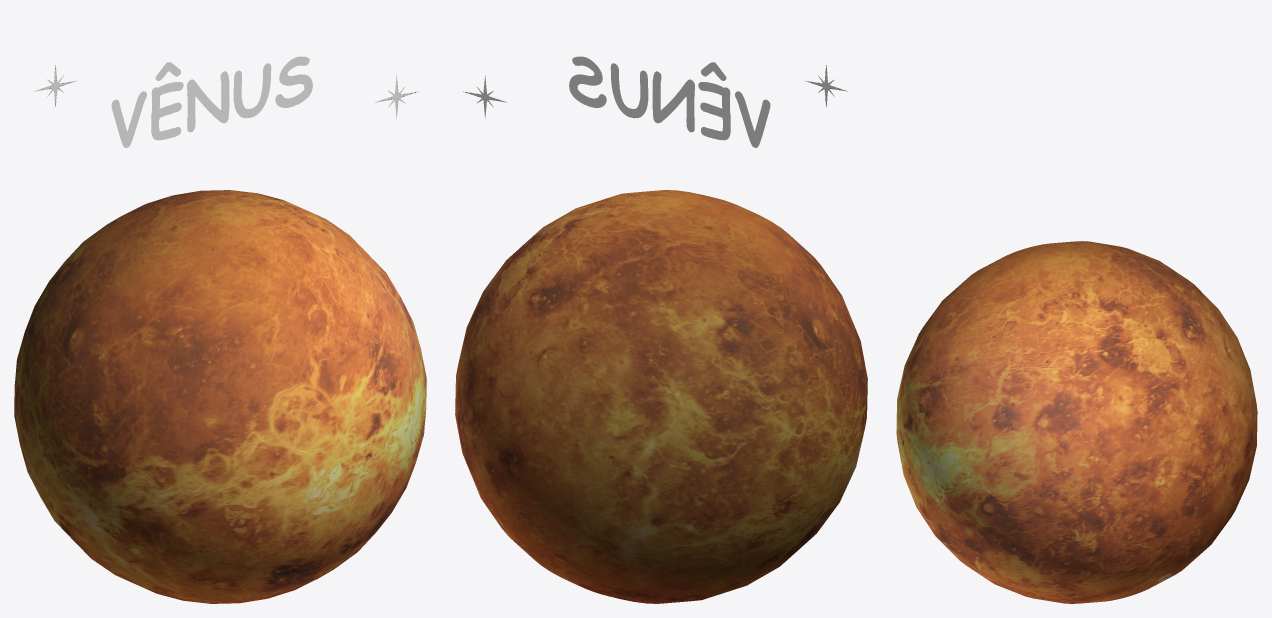
The model's file is venus.glb.
The picture shows the model from 3 angles, left to right: view 1: azimuth 30°, elevation 25°; view 2: azimuth 150°, elevation 25°; view 3: azimuth 270°, elevation 25°; orthographic projection. The views are drawn at different scales.
Parts seen in each view (by area): view 1: rotacao, Letra; view 2: rotacao, Letra; view 3: rotacao.
Part boxes in pixels (<box>): rotacao: <box>14,190,426,603</box>; Letra: <box>111,56,312,147</box>; rotacao: <box>455,190,867,603</box>; Letra: <box>569,56,770,147</box>; rotacao: <box>896,241,1257,603</box>.
Size of the model in its own units: 1.4 by 1.95 by 1.3.
Materials: 2 (2 with a texture image).
